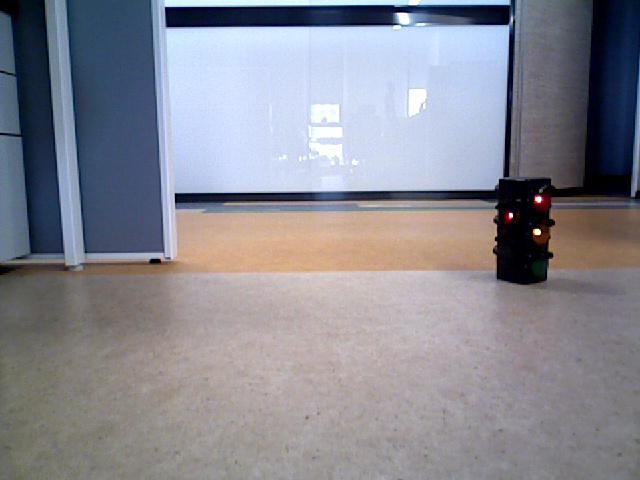red: (497, 180, 546, 275)
